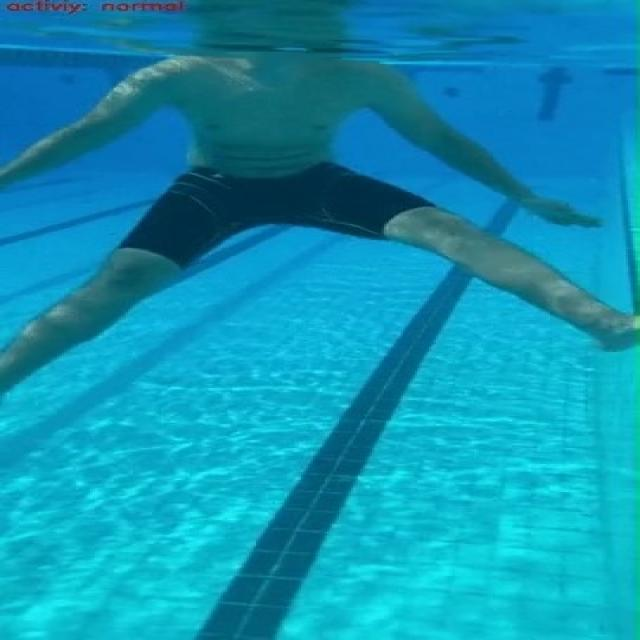Drowning: (6, 51, 640, 393)
